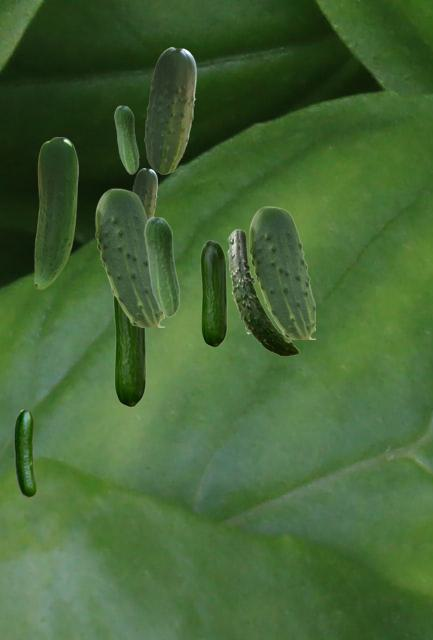cucumber: (95, 188, 163, 326), (227, 229, 298, 355), (249, 206, 314, 338), (34, 137, 77, 288), (144, 47, 195, 173), (113, 296, 145, 406), (144, 216, 179, 316), (200, 240, 226, 346), (14, 409, 35, 496), (114, 105, 138, 173), (132, 168, 156, 217)
